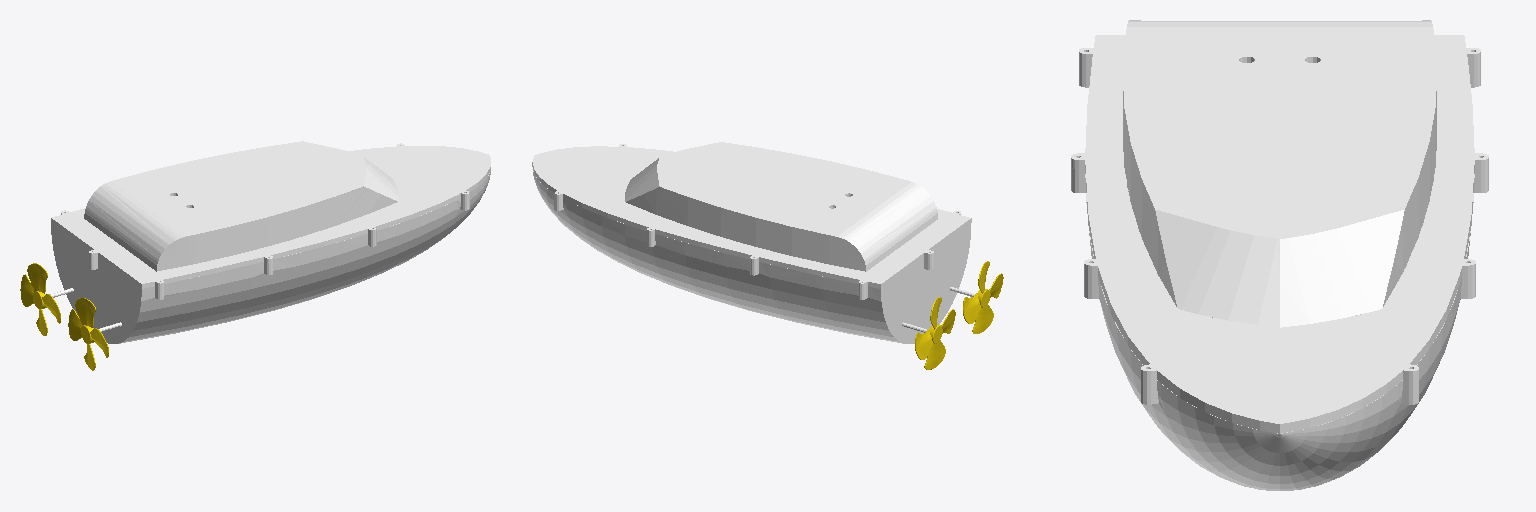
URDF robot description (barco):
<?xml version="1.0" encoding="utf-8"?>
<!-- This URDF was automatically created by SolidWorks to URDF Exporter! Originally created by [author] ([email redacted]) 
     Commit Version: 1.6.0-4-g7f85cfe  Build Version: 1.6.7995.38578
     For more information, please see http://wiki.ros.org/sw_urdf_exporter -->
<robot
  name="barco">
  <link
    name="base_link">
    <inertial>
      <origin
        xyz="-0.0465268601950602 6.0730092908412E-06 -0.0275844171642638"
        rpy="0 0 0" />
      <mass
        value="0.699029134094238" />
      <inertia
        ixx="0.00135766620015822"
        ixy="-9.04635337956479E-07"
        ixz="-7.8195669095446E-05"
        iyy="0.00563852322268755"
        iyz="-9.44149577040228E-08"
        izz="0.00660233461976726" />
    </inertial>
    <visual>
      <origin
        xyz="0 0 0"
        rpy="0 0 0" />
      <geometry>
        <mesh
          filename="package://hyper_teleop/meshes/base_link.STL" />
      </geometry>
      <material
        name="">
        <color
          rgba="1 1 1 1" />
      </material>
    </visual>
    <collision>
      <origin
        xyz="0 0 0"
        rpy="0 0 0" />
      <geometry>
        <mesh
          filename="package://hyper_teleop/meshes/base_link.STL" />
      </geometry>
    </collision>
  </link>
  <link
    name="turbina_right">
    <inertial>
      <origin
        xyz="0.00224077697103237 -0.000117458034506884 7.88818430297322E-08"
        rpy="0 0 0" />
      <mass
        value="0.00197471615360154" />
      <inertia
        ixx="6.40922670725841E-07"
        ixy="-1.65333639733798E-08"
        ixz="3.38656470482504E-14"
        iyy="3.263756534397E-07"
        iyz="3.45763311547139E-14"
        izz="3.25509740067833E-07" />
    </inertial>
    <visual>
      <origin
        xyz="0 0 0"
        rpy="0 0 0" />
      <geometry>
        <mesh
          filename="package://hyper_teleop/meshes/turbina_right.STL" />
      </geometry>
      <material
        name="">
        <color
          rgba="0.96078431372549 0.850980392156863 0.0705882352941176 1" />
      </material>
    </visual>
    <collision>
      <origin
        xyz="0 0 0"
        rpy="0 0 0" />
      <geometry>
        <mesh
          filename="package://hyper_teleop/meshes/turbina_right.STL" />
      </geometry>
    </collision>
  </link>
  <joint
    name="turbinaright"
    type="continuous">
    <origin
      xyz="-0.218663137851867 -0.0377461303729278 -0.0486980072060062"
      rpy="-1.5707963267949 0 0" />
    <parent
      link="base_link" />
    <child
      link="turbina_right" />
    <axis
      xyz="0.998628987904613 -0.0523463897189544 0" />
  </joint>
  <link
    name="turbina_left">
    <inertial>
      <origin
        xyz="0.00224077703425712 -0.000117455425402188 7.78012529401018E-08"
        rpy="0 0 0" />
      <mass
        value="0.00197471591110881" />
      <inertia
        ixx="6.40922613663655E-07"
        ixy="-1.65333643668567E-08"
        ixz="4.17392034657744E-14"
        iyy="3.26375670073134E-07"
        iyz="2.98393438078545E-14"
        izz="3.25509667766148E-07" />
    </inertial>
    <visual>
      <origin
        xyz="0 0 0"
        rpy="0 0 0" />
      <geometry>
        <mesh
          filename="package://hyper_teleop/meshes/turbina_left.STL" />
      </geometry>
      <material
        name="">
        <color
          rgba="0.96078431372549 0.850980392156863 0.0705882352941176 1" />
      </material>
    </visual>
    <collision>
      <origin
        xyz="0 0 0"
        rpy="0 0 0" />
      <geometry>
        <mesh
          filename="package://hyper_teleop/meshes/turbina_left.STL" />
      </geometry>
    </collision>
  </link>
  <joint
    name="turbinaleft"
    type="continuous">
    <origin
      xyz="-0.218630107750605 0.0362088206398113 -0.0493281331186322"
      rpy="-1.5707963267949 0 0" />
    <parent
      link="base_link" />
    <child
      link="turbina_left" />
    <axis
      xyz="0.998628987904613 -0.0523463897189544 0" />
  </joint>


  <!-- ===================== GAZEBO (GZ) ===================== -->
   <!-- ===================== GAZEBO (GZ) ===================== -->
  <gazebo>
    <!-- DiffDrive moderno -->
    <plugin filename="libgz-sim-diff-drive-system.so" name="gz::sim::systems::DiffDrive">
      <!-- Joints que sí existen -->
      <left_joint>turbinaleft</left_joint>
      <right_joint>turbinaright</right_joint>

      <wheel_separation>0.21</wheel_separation>
      <wheel_radius>0.08</wheel_radius>

      <odom_publish_frequency>50</odom_publish_frequency>
      <topic>/cmd_vel</topic>
      <odom_topic>/odom</odom_topic>
      <frame_id>odom</frame_id>
      <child_frame_id>base_link</child_frame_id>

      <max_linear_velocity>2.2</max_linear_velocity>
      <max_angular_velocity>1.5</max_angular_velocity>
    </plugin>
    
        <!-- Mueve directamente el modelo según /cmd_vel -->
    <plugin filename="libgz-sim-velocity-control-system.so"
            name="gz::sim::systems::VelocityControl">
      <topic>/cmd_vel</topic>
    </plugin>

    <!-- Pose Publisher -->
    <plugin filename="libgz-sim-pose-publisher-system.so" name="gz::sim::systems::PosePublisher">
      <publish_link_pose>true</publish_link_pose>
      <publish_collision_pose>false</publish_collision_pose>
      <publish_visual_pose>false</publish_visual_pose>
      <publish_nested_model_pose>false</publish_nested_model_pose>
    </plugin>

    <!-- Joint State Publisher -->
    <plugin filename="libgz-sim-joint-state-publisher-system.so" name="gz::sim::systems::JointStatePublisher">
      <topic>/joint_states</topic>
      <joint_name>turbinaleft</joint_name>
      <joint_name>turbinaright</joint_name>
    </plugin>

    <!-- Wheel Slip -->
    <plugin filename="libgz-sim-wheel-slip-system.so" name="gz::sim::systems::WheelSlip">
      <wheel link_name="turbina_left">
        <slip_compliance_lateral>0.05</slip_compliance_lateral>
        <slip_compliance_longitudinal>0.002</slip_compliance_longitudinal>
      </wheel>
      <wheel link_name="turbina_right">
        <slip_compliance_lateral>0.05</slip_compliance_lateral>
        <slip_compliance_longitudinal>0.002</slip_compliance_longitudinal>
      </wheel>
    </plugin>
  </gazebo>

  <!-- ===== Materiales y fricción ===== -->
  <gazebo reference="base_link">
    <material>Gazebo/Blue</material>
    <mu1>0.2</mu1>
    <mu2>0.2</mu2>
  </gazebo>

  <gazebo reference="turbina_left">
    <material>Gazebo/Black</material>
    <mu1>1.2</mu1>
    <mu2>1.2</mu2>
  </gazebo>

  <gazebo reference="turbina_right">
    <material>Gazebo/Black</material>
    <mu1>1.2</mu1>
    <mu2>1.2</mu2>
  </gazebo>


</robot>


--- Facts derived from the render (not from the file) ---
The picture shows the robot from 3 angles, left to right: view 1: azimuth 30°, elevation 25°; view 2: azimuth 150°, elevation 25°; view 3: azimuth 270°, elevation 25°; orthographic projection.
Model barco with 3 links and 2 joints (2 continuous), rooted at base_link, posed all joints at 0.
Links seen in each view (by area): view 1: base_link, turbina_right, turbina_left; view 2: base_link, turbina_left, turbina_right; view 3: base_link.
Boxes of the visible links, <box> form: base_link: <box>50,141,490,343</box>; turbina_right: <box>68,298,108,370</box>; turbina_left: <box>20,263,60,335</box>; base_link: <box>532,142,974,343</box>; turbina_left: <box>915,297,955,369</box>; turbina_right: <box>963,261,1003,333</box>; base_link: <box>1071,20,1488,490</box>.
Size in the robot's own frame: 0.3831 by 0.159 by 0.1042 metres.
3 mesh visuals loaded from 3 distinct referenced files (3 binary STL).